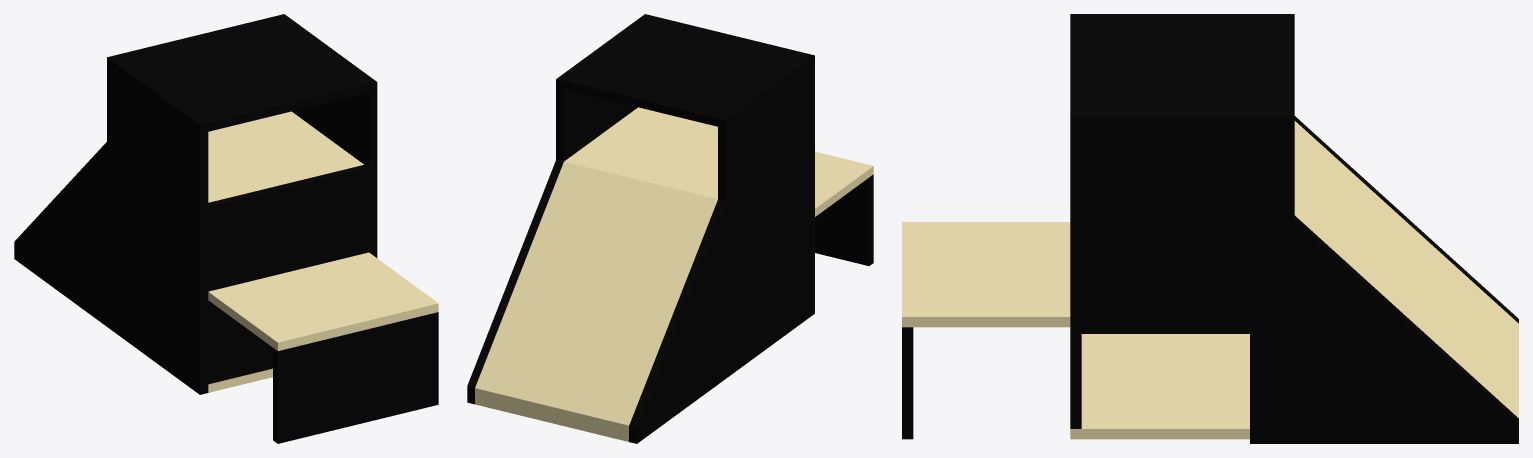
File: Cat Shelter.glb
3 views of the same model, side by side, from view 1: azimuth 30°, elevation 25°; view 2: azimuth 150°, elevation 25°; view 3: azimuth 270°, elevation 25° (orthographic). The views are drawn at different scales.
Parts seen in each view (by area): view 1: Object_4, Object_3, Object_1, Object_5, Object_6, Object_8, Object_2, Object_11; view 2: Object_9, Object_4, Object_1, Object_8, Object_2, Object_5, Object_6, Object_10; view 3: Object_2, Object_1, Object_9, Object_11, Object_6, Object_4, Object_5, Object_3.
Part boxes in pixels (x1,y1,x2,y2): Object_4: (14,55,208,394); Object_3: (208,164,368,384); Object_1: (115,16,368,131); Object_5: (273,312,438,443); Object_6: (208,252,438,350); Object_8: (208,111,363,202); Object_2: (276,14,377,257); Object_11: (208,368,272,392); Object_9: (475,161,717,433); Object_4: (629,53,814,443); Object_1: (564,16,806,126); Object_8: (564,107,717,198); Object_2: (467,14,652,404); Object_5: (815,174,873,265); Object_6: (815,151,873,216); Object_10: (475,396,628,441); Object_2: (1070,113,1518,443); Object_1: (1070,18,1294,113); Object_9: (1294,121,1518,417); Object_11: (1070,334,1249,439); Object_6: (902,222,1070,327); Object_4: (1070,14,1518,333); Object_5: (902,327,913,439); Object_3: (1070,332,1081,428).
Bounding box in the file's own units: 1.1 × 1.6 × 2.75.
